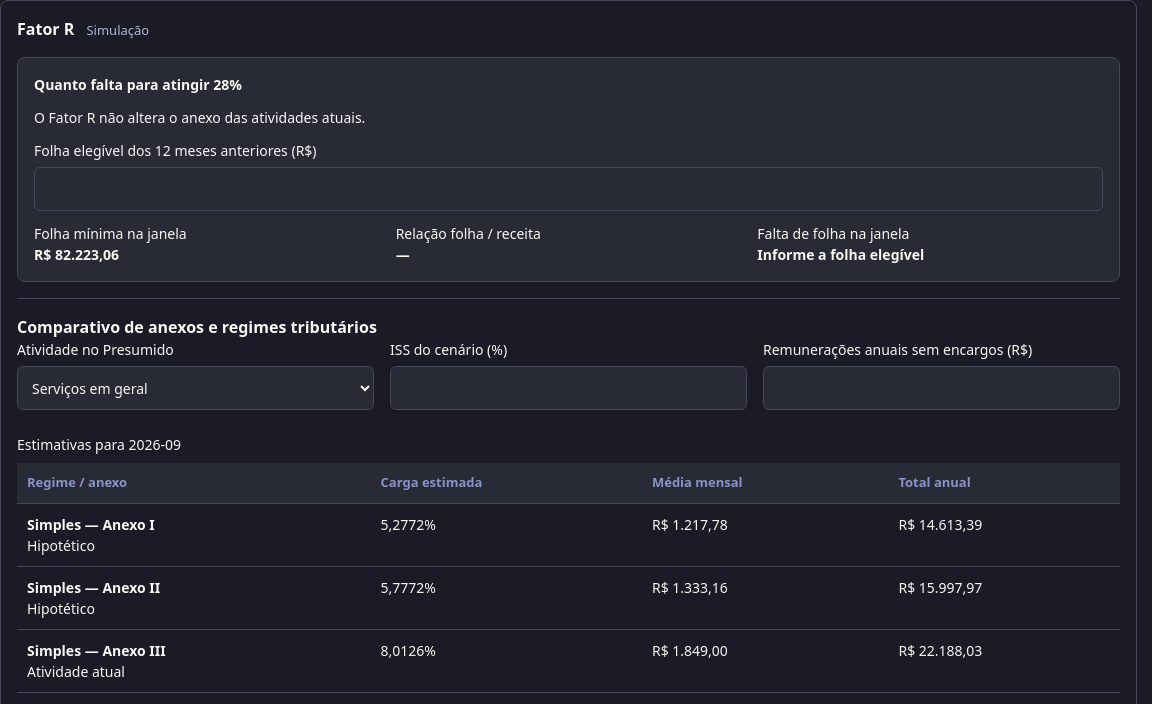
Test case: folha ausente não vira zero; atividade sem Fator R mantém explicação
This screenshot has width=1152, height=704.
Check: the text "Informe a folha elegível" is shown, box [757,245,924,264]
Check: the text "O Fator R não altera o anexo das atividades atuais." is shown, box [34,108,365,127]
Type "0" into the number field labelled "Folha elegível dos 12 meses anteriores (R$)" at [568, 189], box [34,167,1103,211]
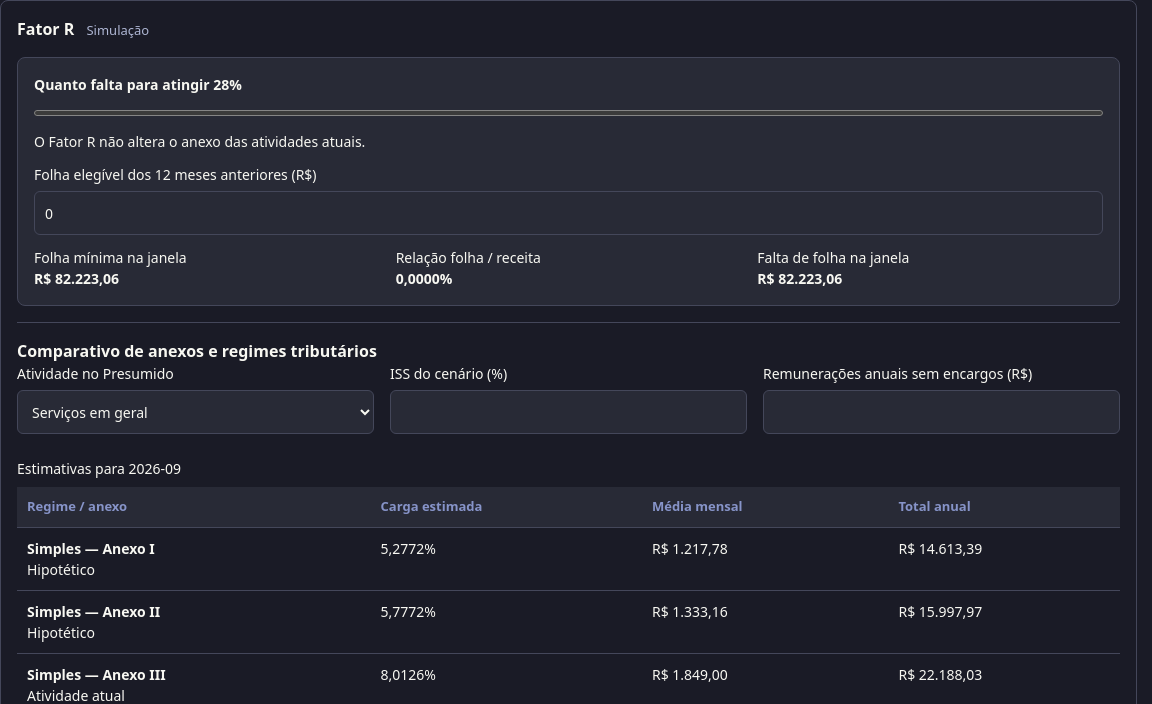
Check: the text "Informe a folha elegível" is gone
